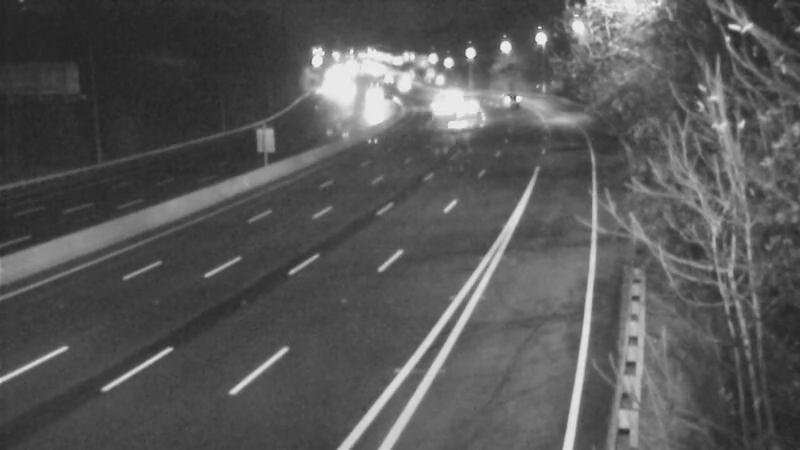vehicle: (485, 75, 535, 125), (413, 81, 463, 131), (438, 81, 488, 131), (431, 92, 481, 142), (345, 73, 395, 123)
